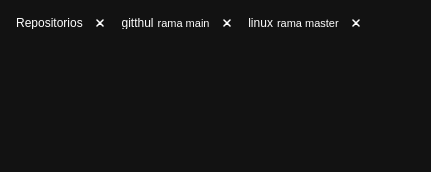
Test: TabStrip › edita con doble clic, selecciona el nombre y conserva el cierre visible
Double-click the button "gitthul rama main" at point(166, 23), box [118, 12, 214, 35]
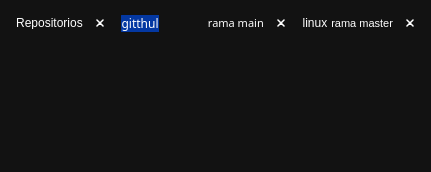
Expected: the button named "Cerrar la pestaña gitthul" is shown, [270, 12, 292, 35]
Result: the field named "Alias del repositorio" holds "gitthul" at [122, 13, 204, 34]
